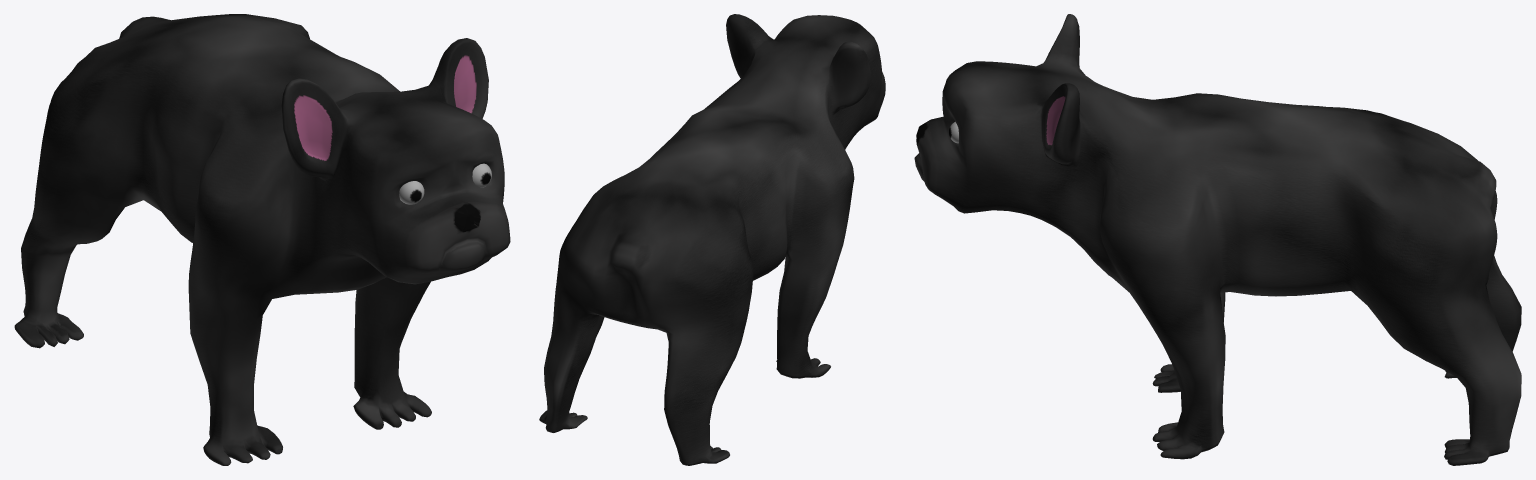
The model's file is dogMorpher.fbx.
3 views of the same model, side by side, from view 1: azimuth 30°, elevation 25°; view 2: azimuth 150°, elevation 25°; view 3: azimuth 270°, elevation 25° (orthographic). The views are drawn at different scales.
Parts seen in each view (by area): view 1: combine_dog_target1; view 2: combine_dog_target1; view 3: combine_dog_target1.
Boxes of the visible parts, x1,y1,x2,y2 form: combine_dog_target1: (14, 14, 510, 465); combine_dog_target1: (539, 14, 885, 465); combine_dog_target1: (914, 14, 1521, 465).
Bounding box in the file's own units: 17.68 × 27.15 × 40.9.
1 material, 1 textured.
